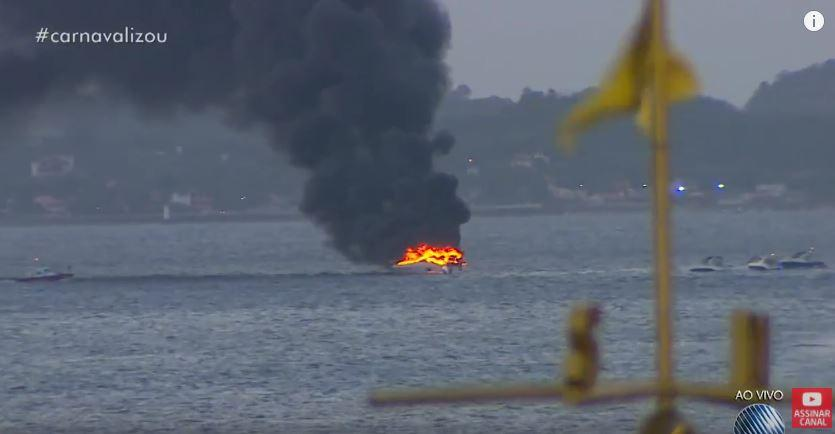fire: (403, 242, 461, 266)
smoke: (298, 64, 424, 207)
